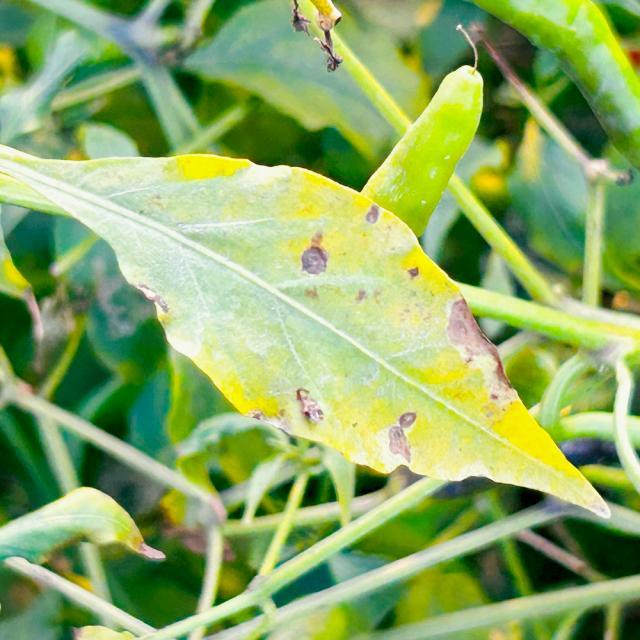Bercak Daun Serkospora: (0, 151, 617, 525)
